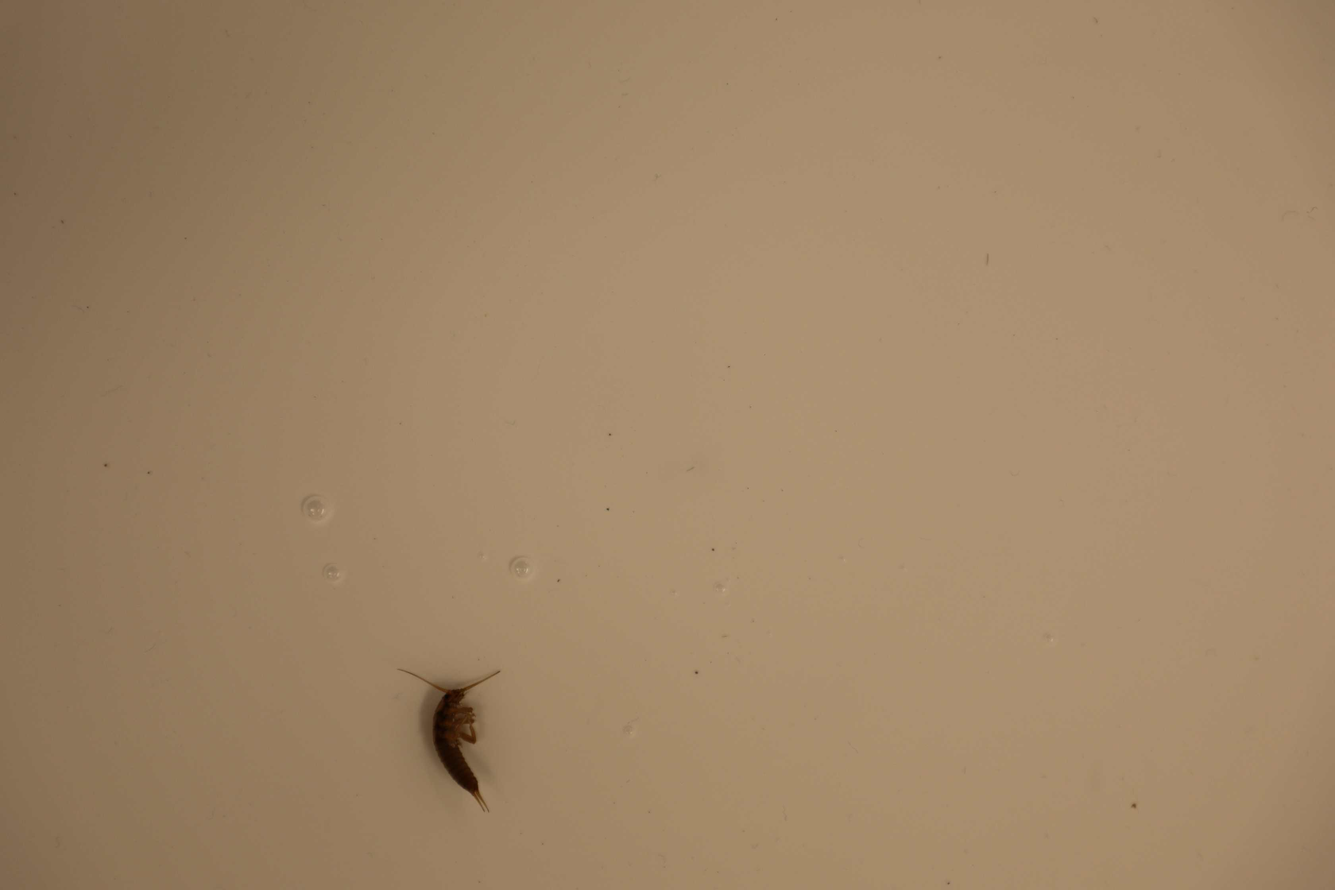Stonefly: (396, 669, 504, 814)
